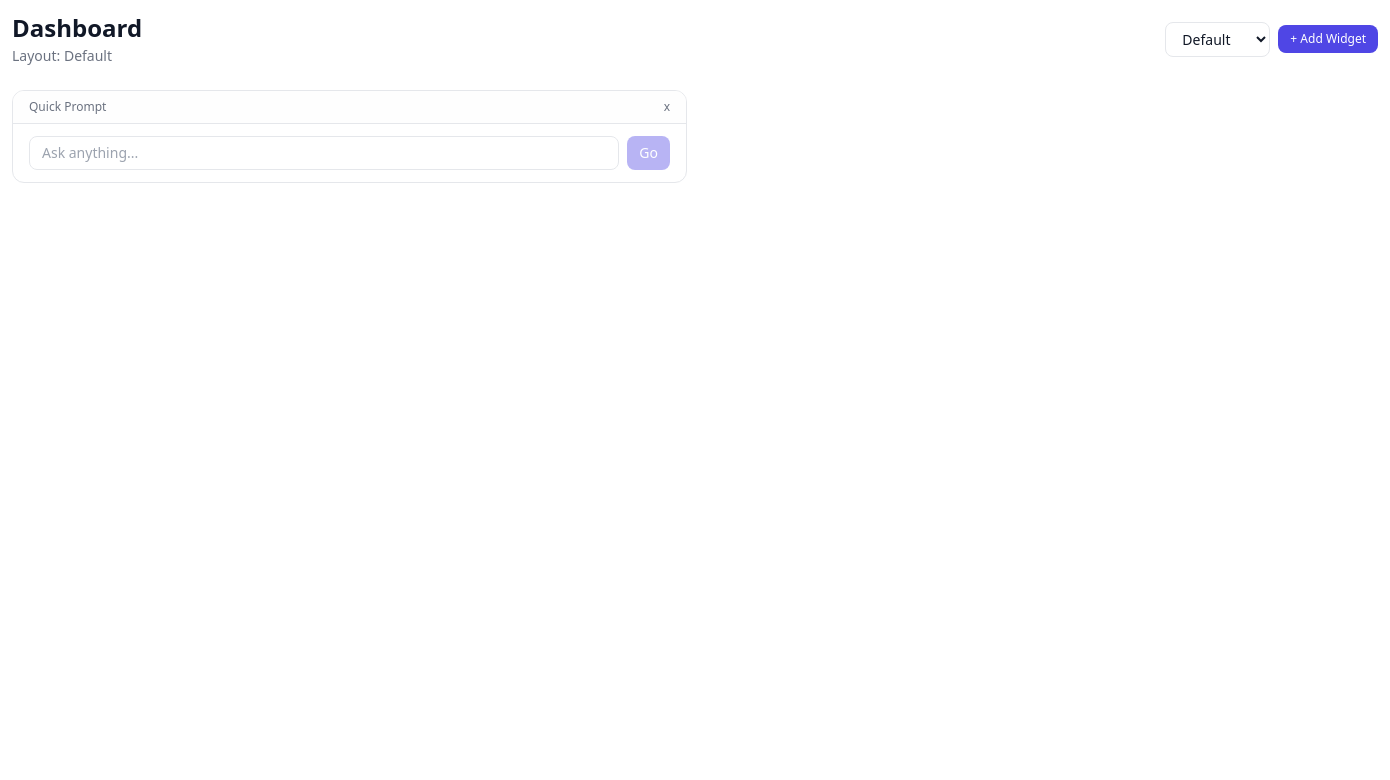
Scenario: CustomDashboard › renders widget picker when + Add Widget clicked
The width and height of the screenshot is (1390, 780).
What coordinates should you click on to do the following:
click the button "+ Add Widget"
I would click on:
 (1328, 39)
Its box is top-left (1278, 25), bottom-right (1378, 53).
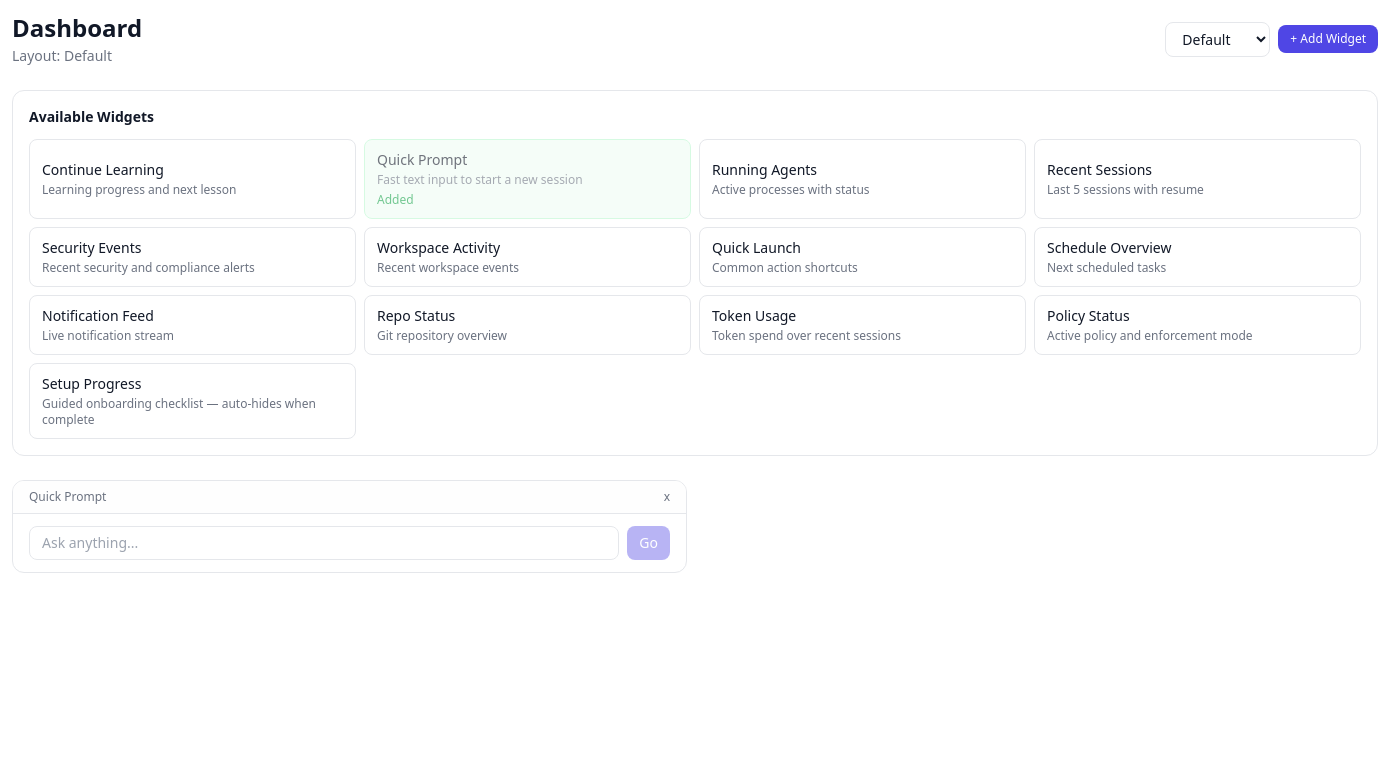
expect the heading "Available Widgets" is shown: met, box top-left (29, 107), bottom-right (154, 126)
expect the text "Token Usage" is shown: met, box top-left (712, 306), bottom-right (796, 325)
